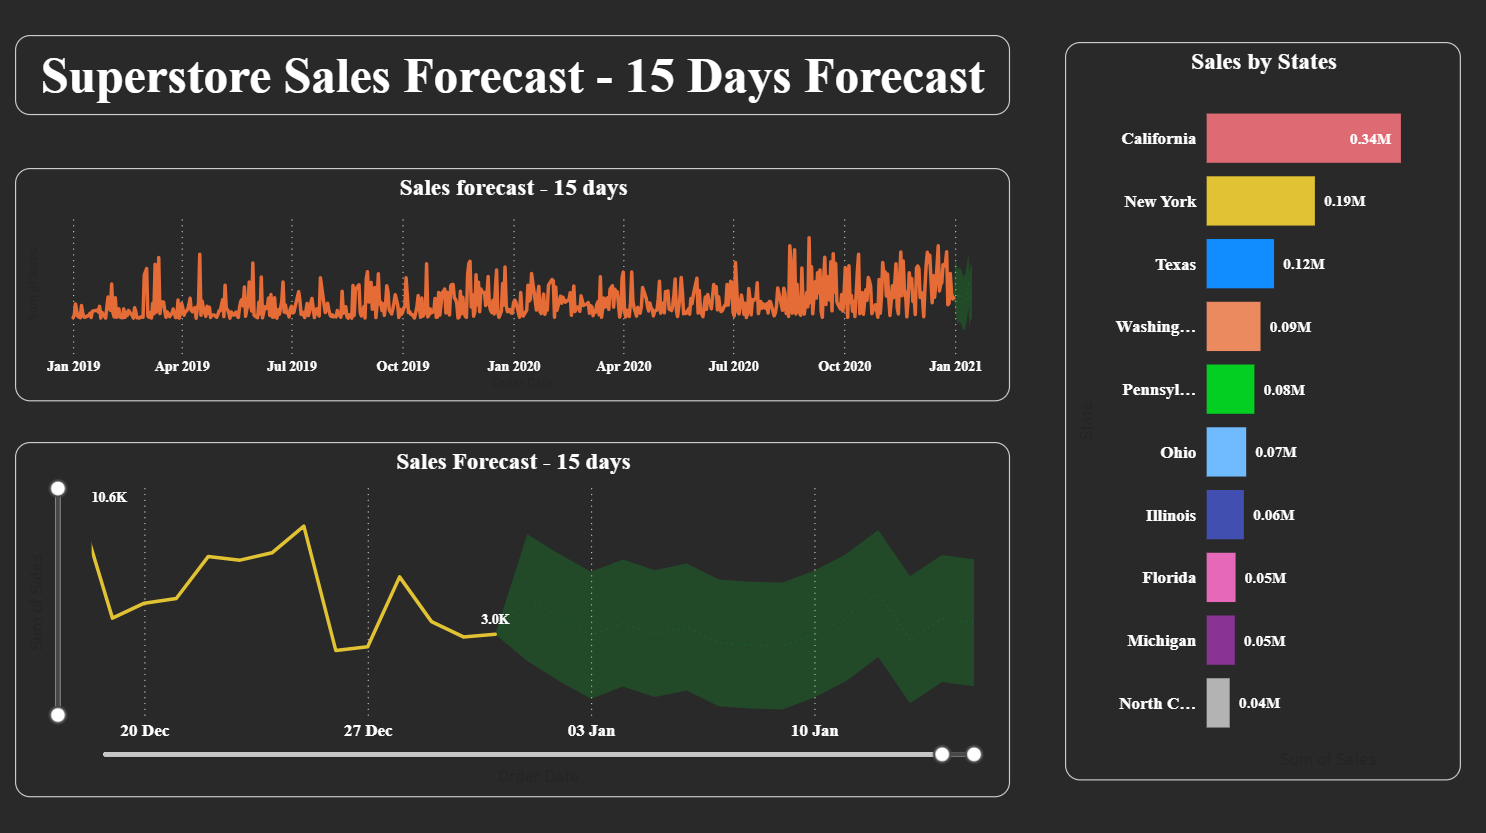

This screenshot's page, from the dashboard's own definition file:
{"tool":"powerbi","page":{"name":"Sales Forecast","canvas":[1280,720],"ordinal":1},"visuals":[{"type":"lineChart","title":"Sales forecast - 15 days","fields":{"Y":["Sum(SuperStore_Sales_Dataset (1).Sales)"],"Category":["SuperStore_Sales_Dataset (1).Order Date"]},"box":[12.7,146.9,857.2,200.8],"z":0},{"type":"lineChart","title":"Sales Forecast - 15 days","fields":{"Y":["Sum(SuperStore_Sales_Dataset (1).Sales)"],"Category":["SuperStore_Sales_Dataset (1).Order Date"]},"box":[12.9,383.4,856.8,306.3],"z":1000},{"type":"clusteredBarChart","title":"Sales by States","fields":{"Y":["Sum(SuperStore_Sales_Dataset (1).Sales)"],"Category":["SuperStore_Sales_Dataset (1).State"]},"box":[917,38.5,341.2,635.8],"z":2000},{"type":"textbox","box":[12.7,32.8,857.2,68.7],"z":3000}]}

Visuals, with their boxes in screenshot pixels (x1, y1, x2, y2), scaled from the page's 1280x720 canvas onto the 1486x833 screenshot:
"Sales forecast - 15 days" lineChart: pyautogui.locateOnScreen(15, 170, 1010, 402)
"Sales Forecast - 15 days" lineChart: pyautogui.locateOnScreen(15, 444, 1010, 798)
"Sales by States" clusteredBarChart: pyautogui.locateOnScreen(1065, 45, 1461, 780)
textbox: pyautogui.locateOnScreen(15, 38, 1010, 117)
